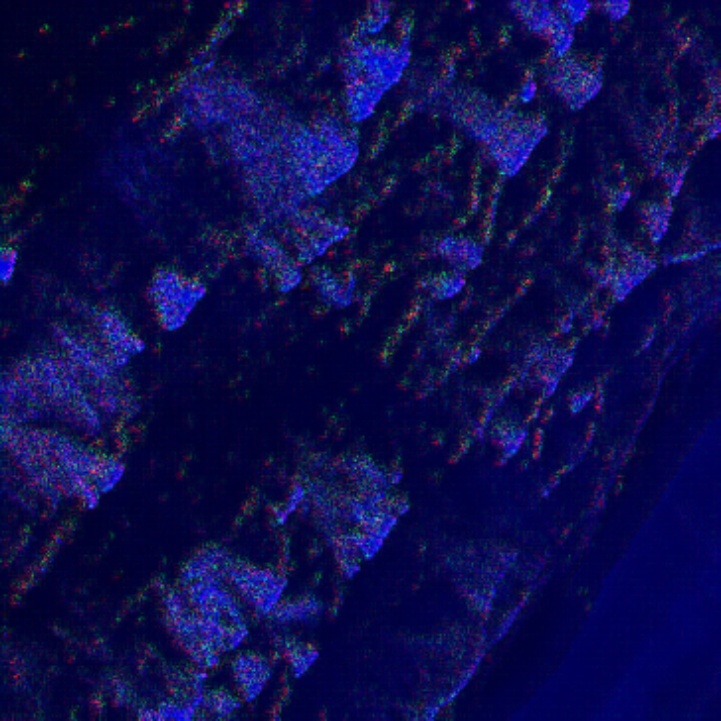rip_current: (80, 205, 574, 562)
